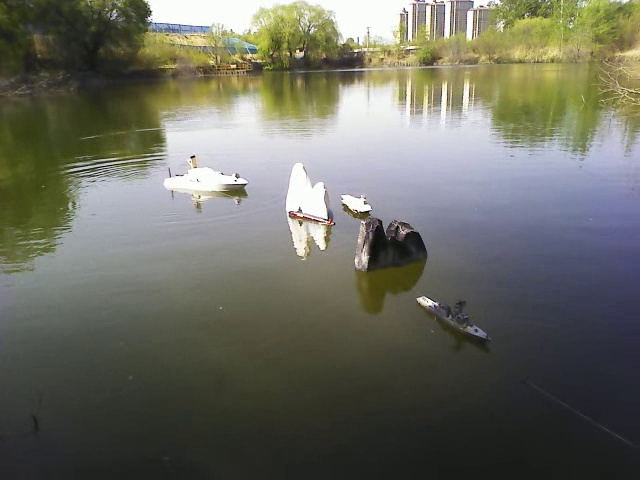aircraft_carrier: (339, 183, 377, 217)
boat: (154, 163, 252, 197)
iceberg: (280, 161, 332, 216)
rock: (354, 213, 431, 276)
submarine: (289, 208, 339, 228)
warship: (415, 293, 492, 346)
